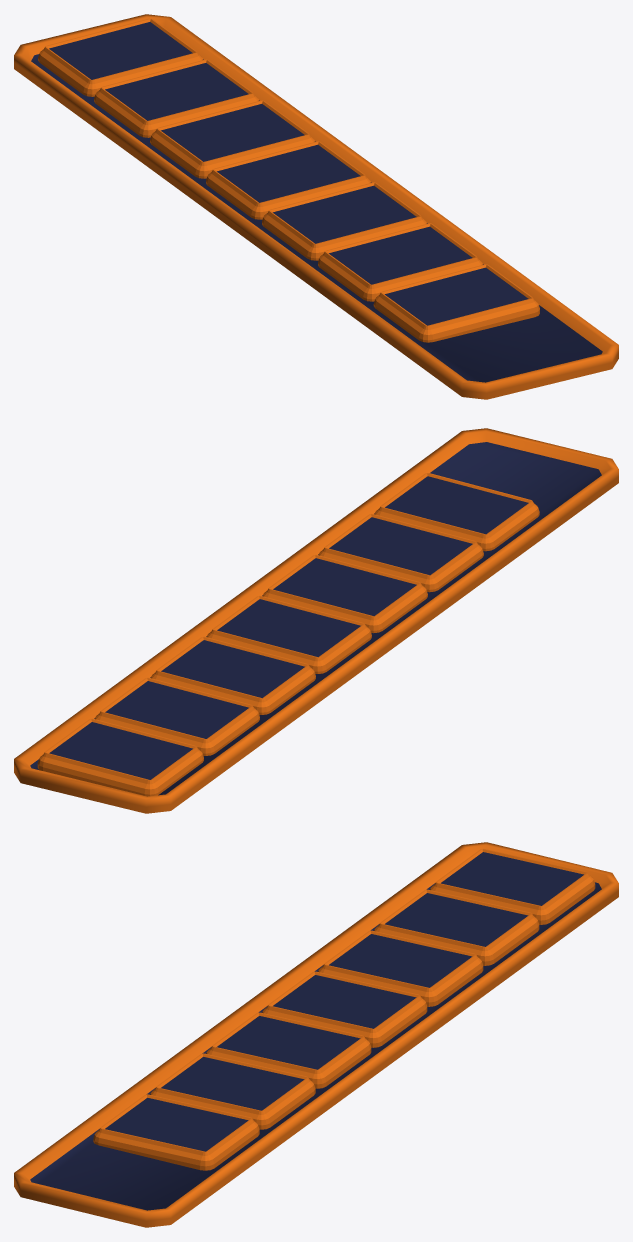
File: Initiative.FBX
3 views of the same model, one above another, from view 1: azimuth 30°, elevation 25°; view 2: azimuth 150°, elevation 25°; view 3: azimuth 330°, elevation 25° (orthographic).
Visible parts, largest first — view 1: Box001, ChamferBox007, ChamferBox006, ChamferBox002, ChamferBox004, ChamferBox003, ChamferBox005, ChamferBox001; view 2: Box001, ChamferBox001, ChamferBox007, ChamferBox003, ChamferBox005, ChamferBox002, ChamferBox004, ChamferBox006; view 3: Box001, ChamferBox007, ChamferBox003, ChamferBox005, ChamferBox001, ChamferBox002, ChamferBox006, ChamferBox004.
Boxes of the visible parts, x1,y1,x2,y2 form: Box001: (14,14,618,399); ChamferBox007: (373,264,539,342); ChamferBox006: (318,223,482,301); ChamferBox002: (94,59,259,137); ChamferBox004: (206,141,370,219); ChamferBox003: (150,100,315,178); ChamferBox005: (262,182,426,260); ChamferBox001: (38,18,203,96); Box001: (14,428,618,813); ChamferBox001: (37,718,203,796); ChamferBox007: (374,473,539,551); ChamferBox003: (150,636,315,714); ChamferBox005: (262,554,427,633); ChamferBox002: (95,677,259,755); ChamferBox004: (206,595,371,673); ChamferBox006: (318,514,483,592); Box001: (14,842,618,1227); ChamferBox007: (93,1094,259,1170); ChamferBox003: (318,930,483,1006); ChamferBox005: (206,1012,371,1088); ChamferBox001: (430,848,595,924); ChamferBox002: (374,889,539,965); ChamferBox006: (150,1053,315,1129); ChamferBox004: (262,971,427,1047).
Bounding box in the file's own units: 0.7 × 0.0956 × 3.6.
